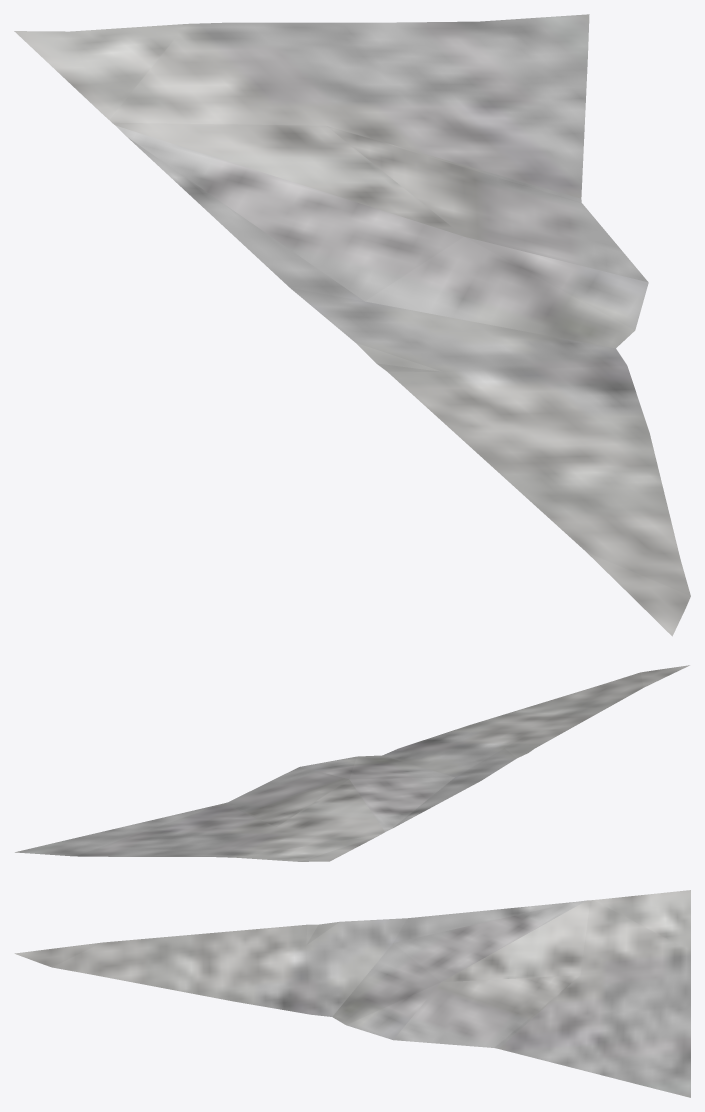
The picture shows the model from 3 angles, top to bottom: view 1: azimuth 30°, elevation 25°; view 2: azimuth 150°, elevation 25°; view 3: azimuth 270°, elevation 25°; orthographic projection. The views are drawn at different scales.
Size of the model in its own units: 0.3596 by 0.0738 by 0.7125.
Materials: 1 (1 with a texture image).
